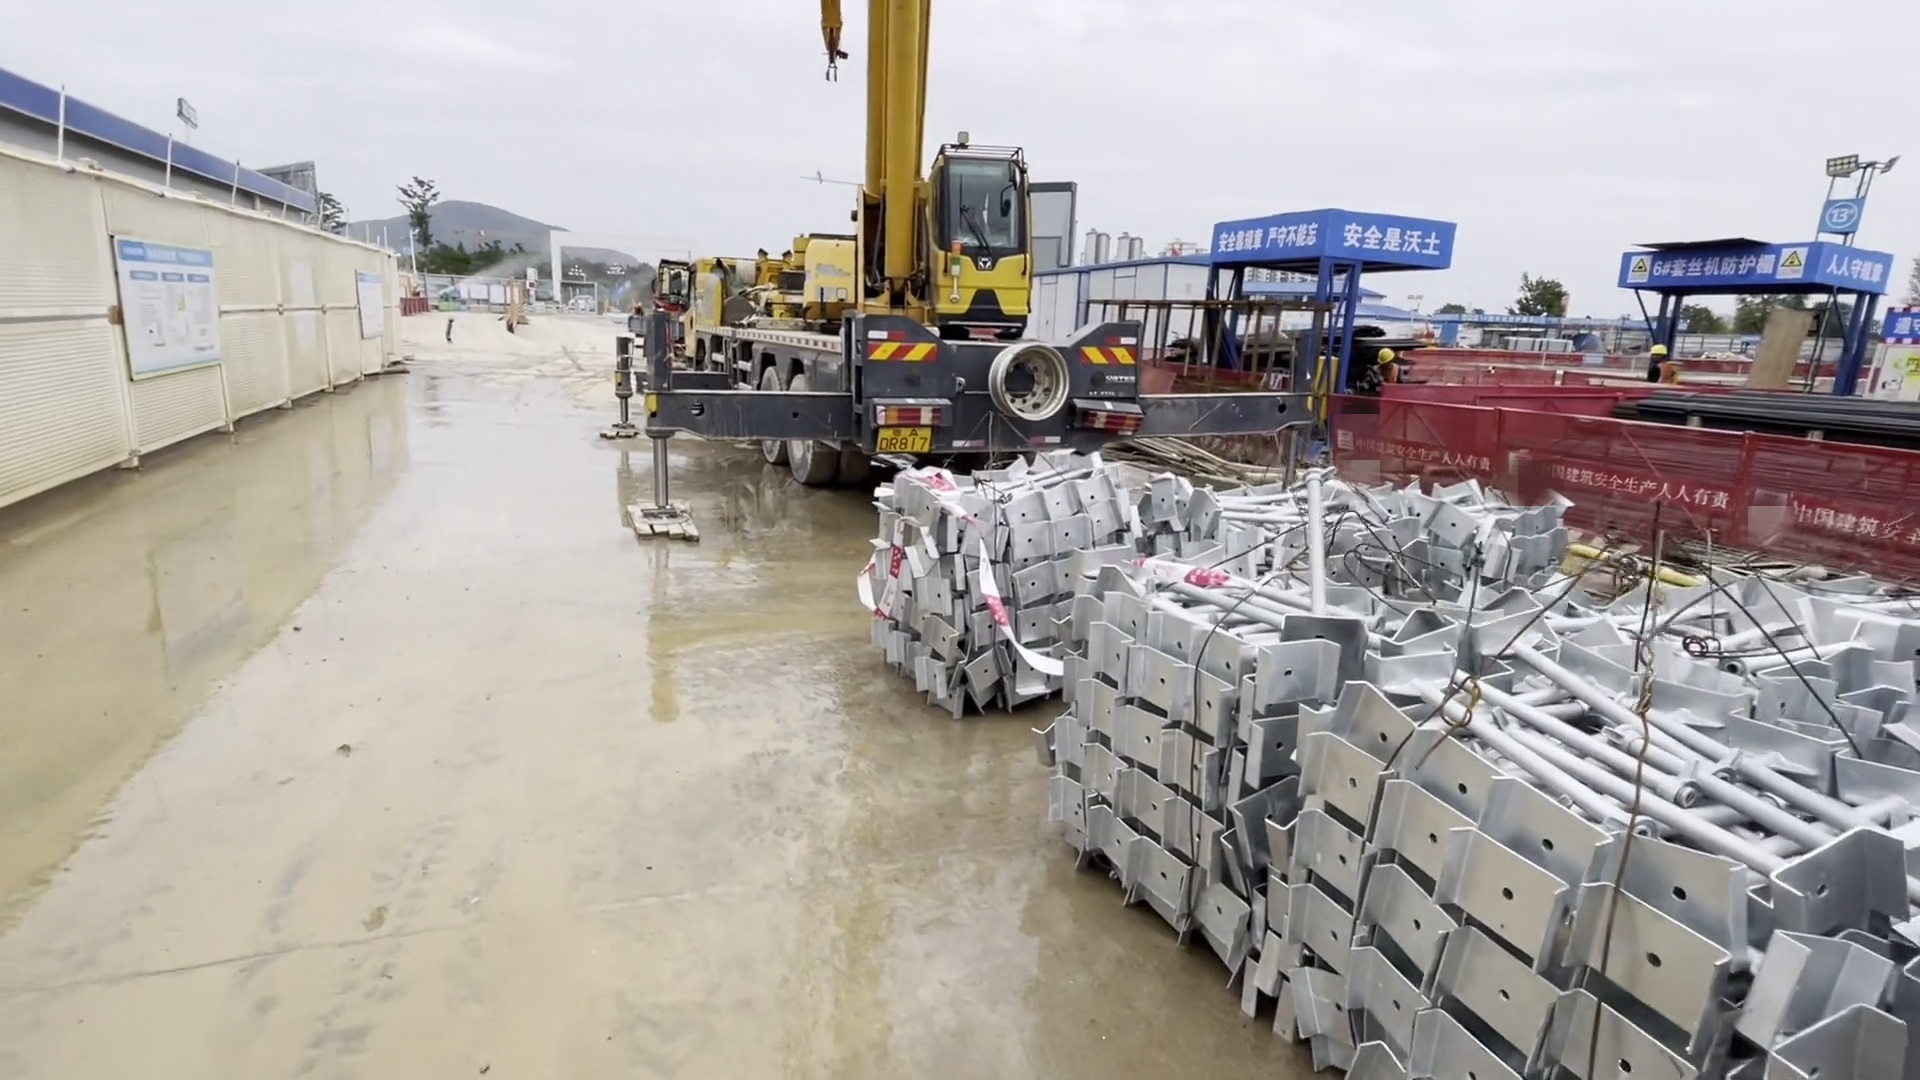slogan: (1638, 233, 1899, 295), (1211, 214, 1455, 264)
